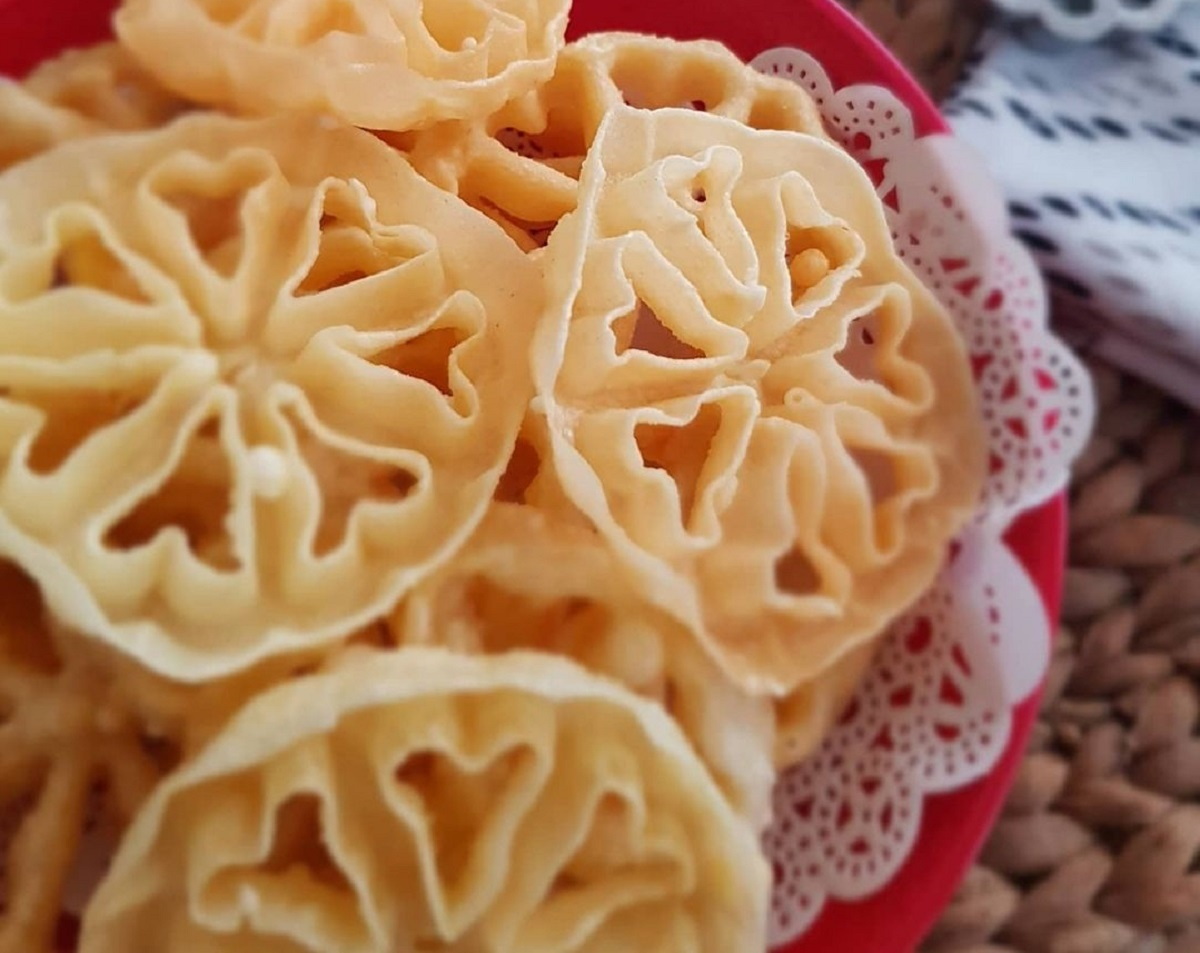kembang_goyang: (555, 64, 1034, 717), (15, 114, 528, 690)
